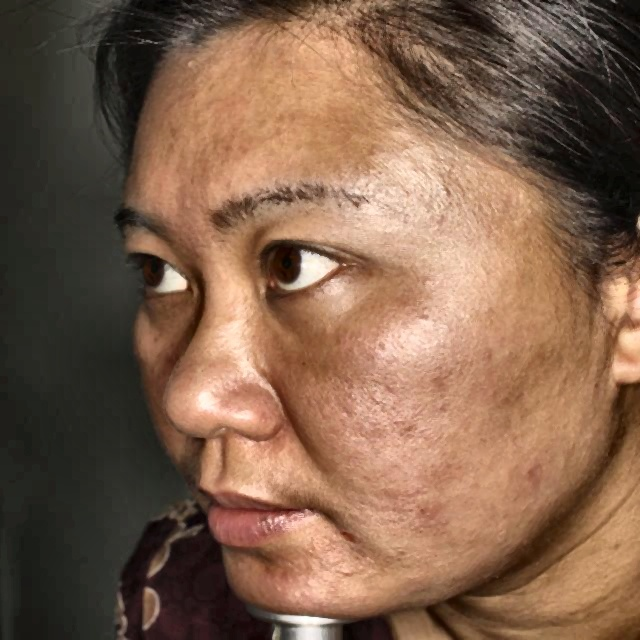comedone: (519, 459, 547, 485)
